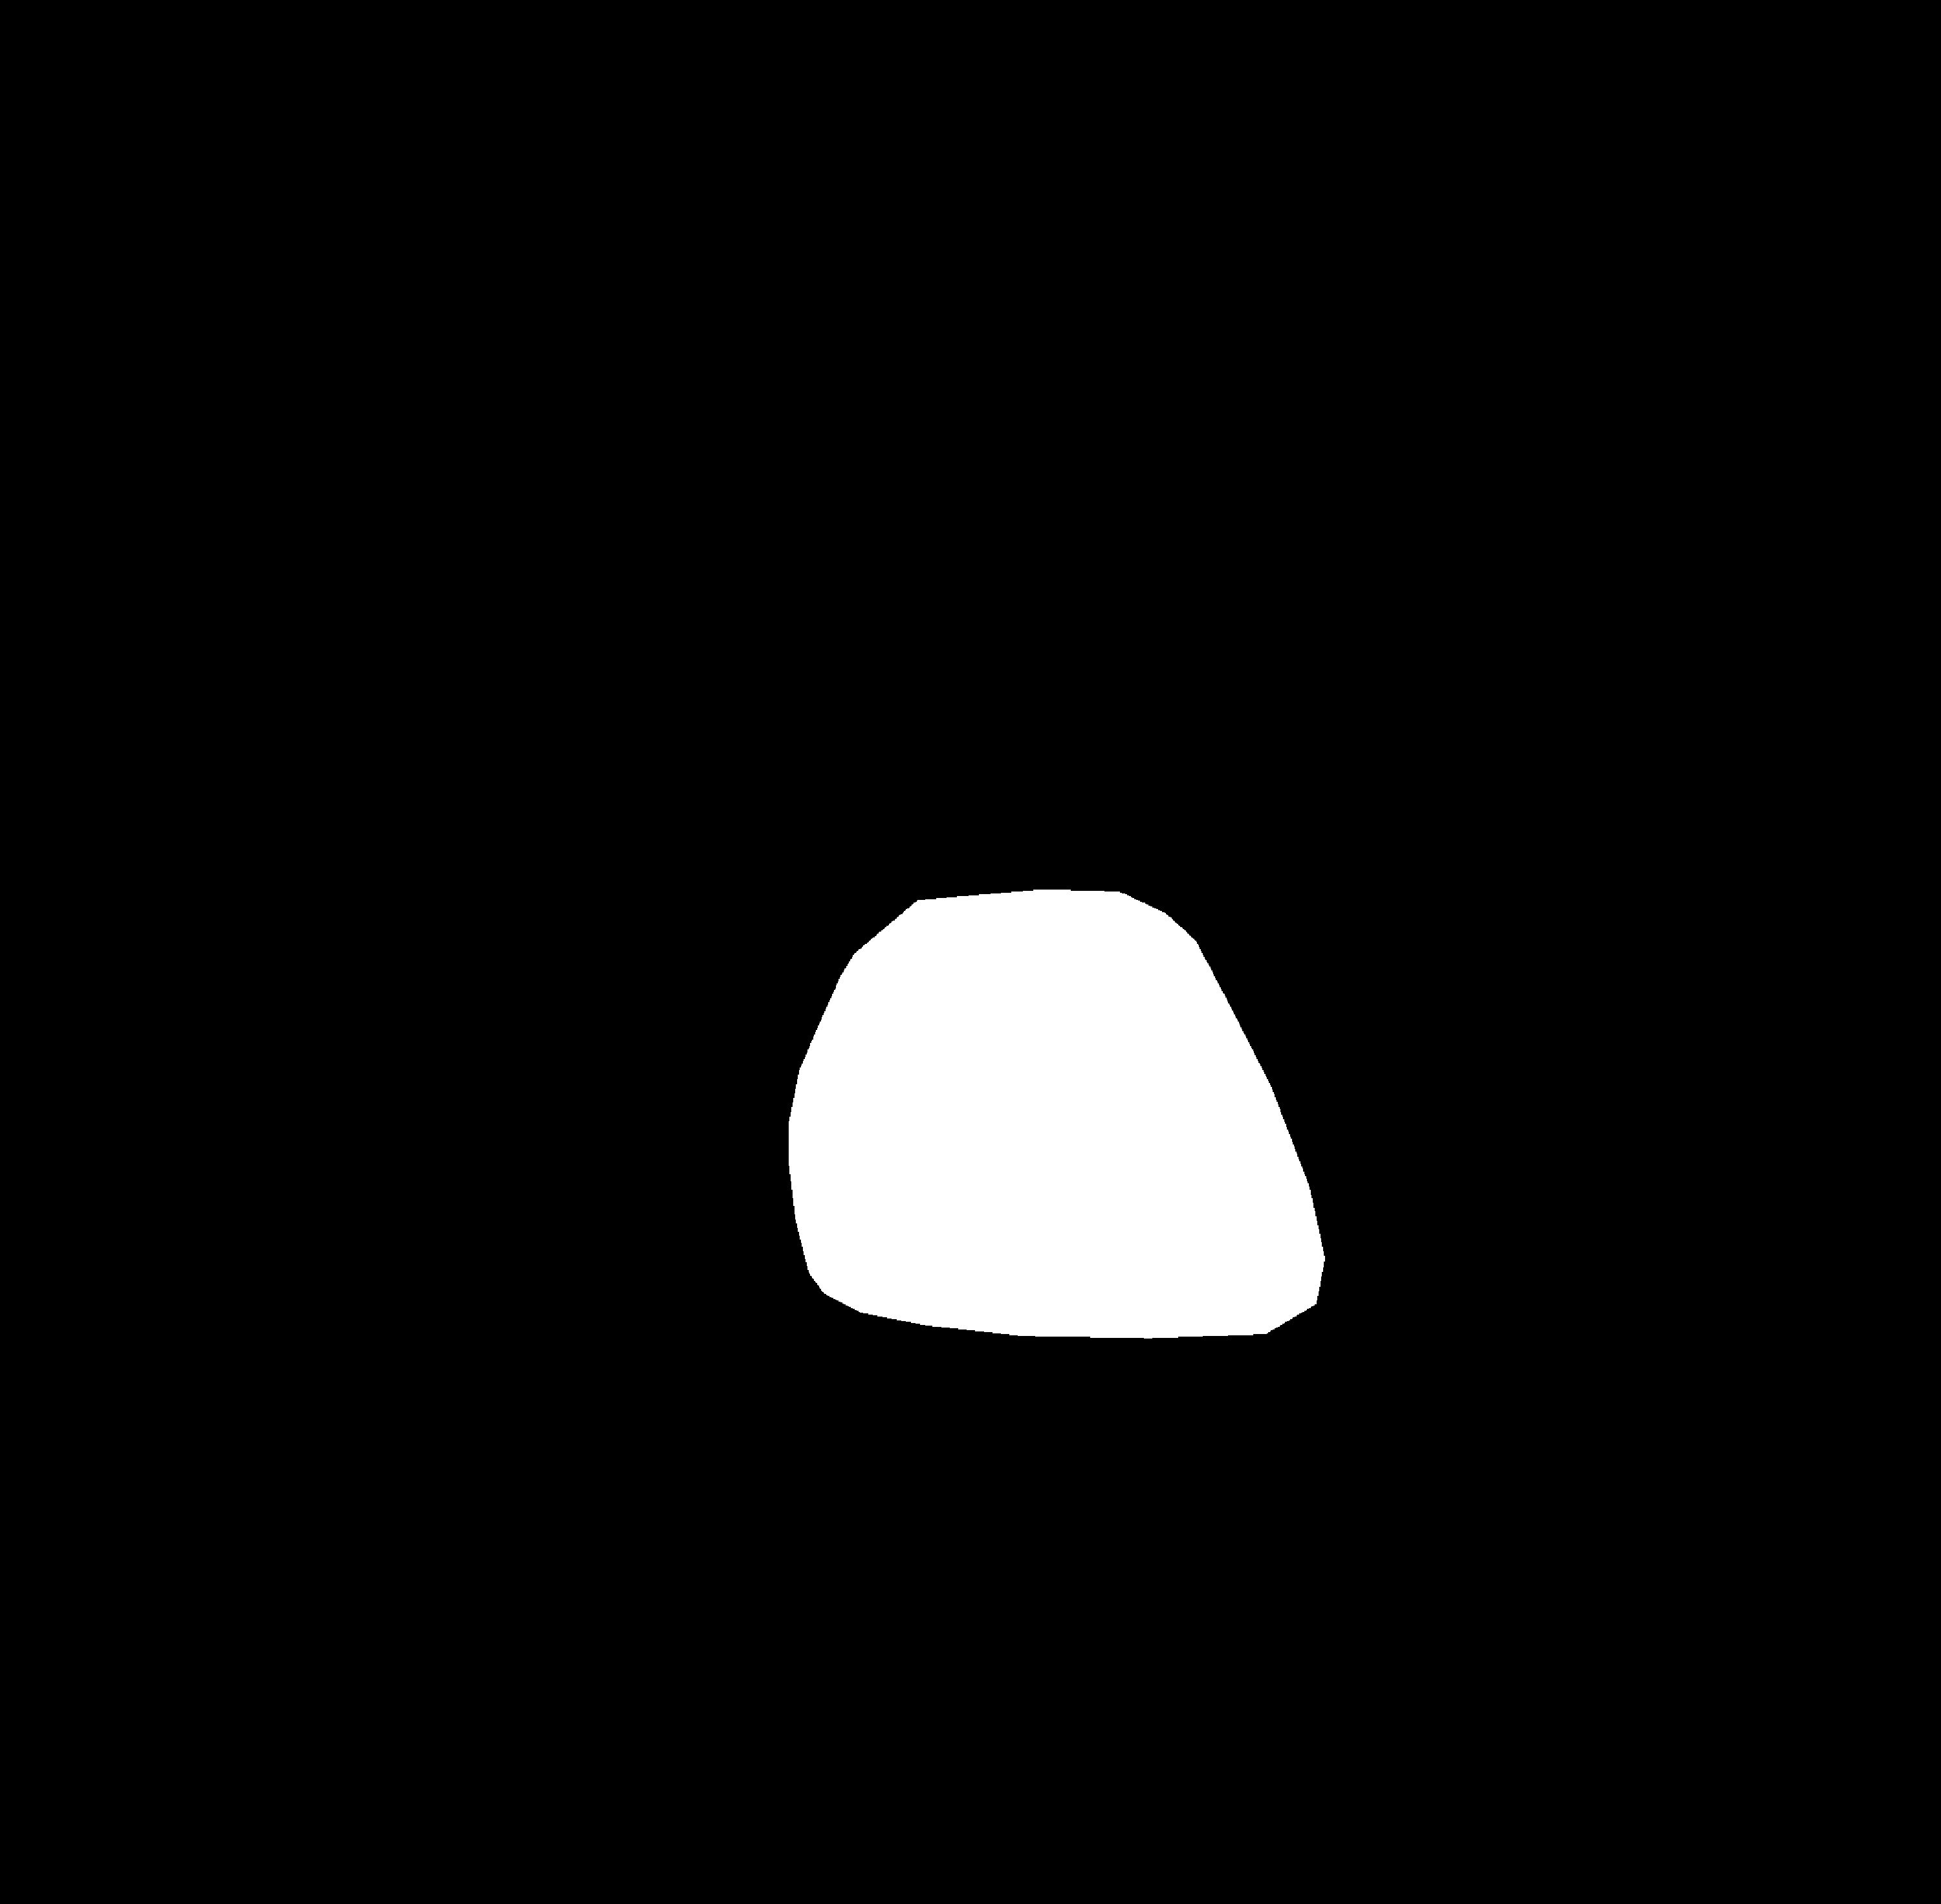heart: (788, 931, 1318, 1344)
left_lung: (310, 274, 949, 1461)
right_lung: (1090, 272, 1686, 1491)
